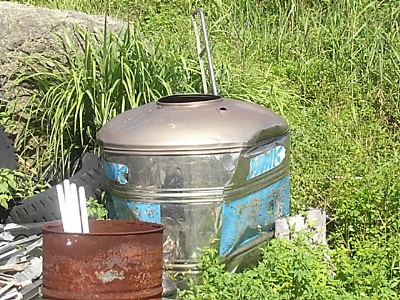bucket: (42, 220, 164, 300)
tire: (10, 152, 108, 222)
water_tower: (96, 92, 291, 276)
